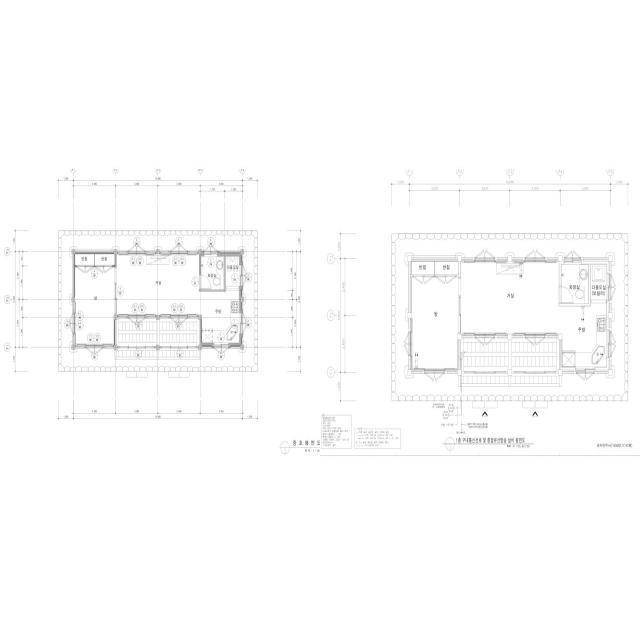space_bedroom: (411, 260, 458, 371), (74, 252, 115, 347)
space_kitchen: (559, 303, 608, 369), (199, 289, 240, 343)
space_living_room: (461, 260, 559, 336), (116, 252, 199, 317)
space_multipurpose_space: (590, 264, 608, 303), (226, 256, 240, 286)
space_toilet: (561, 262, 589, 304), (201, 255, 224, 290)
